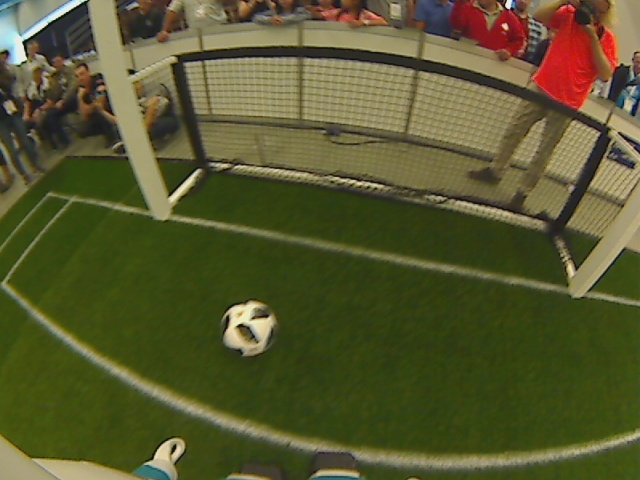ball: (217, 300, 278, 357)
